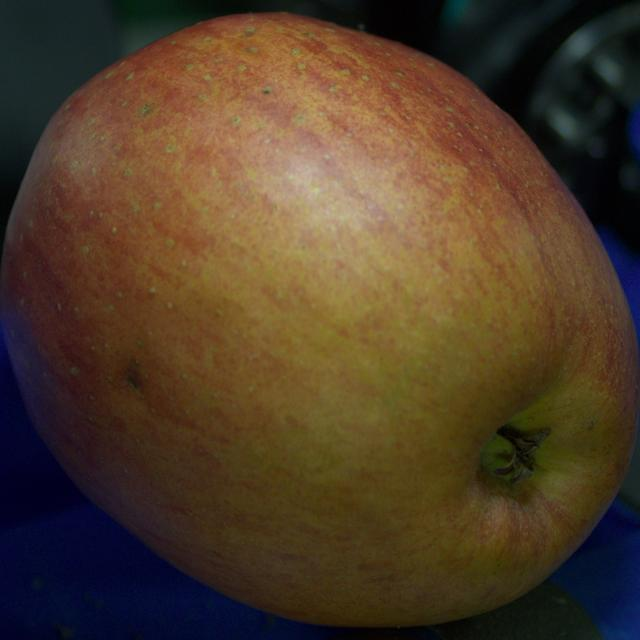apple: (0, 14, 639, 626)
pest: (124, 368, 146, 400)
